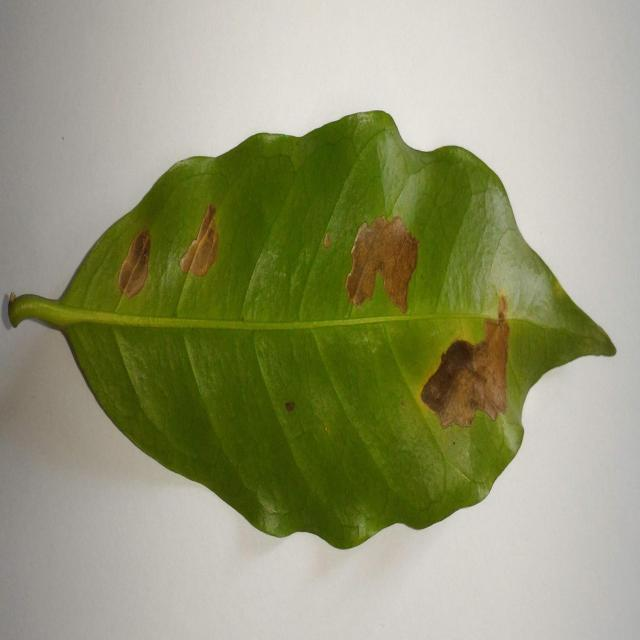Plaga-Minador: (6, 111, 617, 551)
